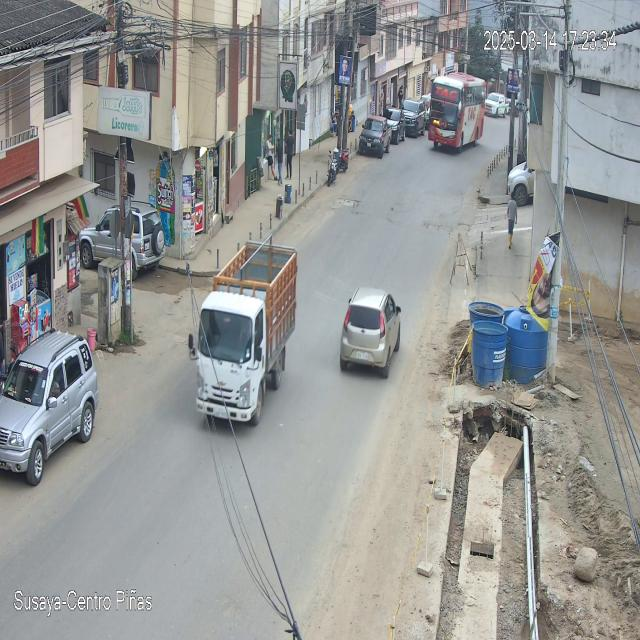BUS: (428, 73, 486, 153)
SED: (340, 288, 401, 378)
TRUCK: (191, 245, 297, 428)
